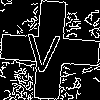V: (25, 25, 62, 73)
